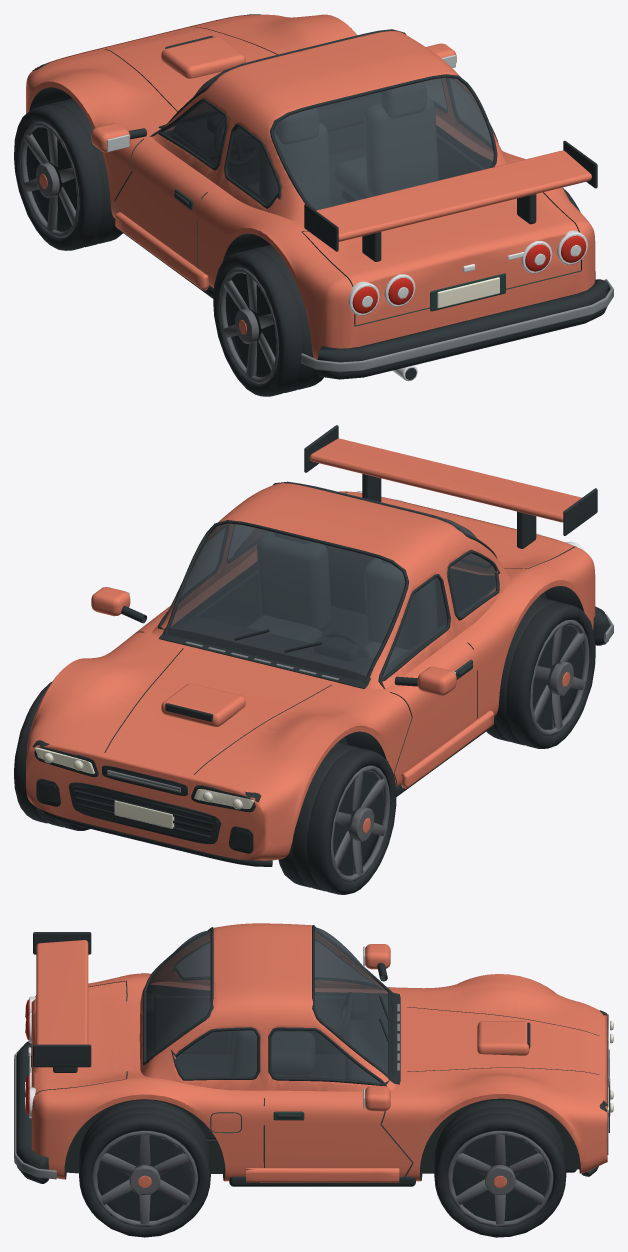
Rendered from hayate_lod1.fbx.
3 views of the same model, one above another, from view 1: azimuth 30°, elevation 25°; view 2: azimuth 150°, elevation 25°; view 3: azimuth 270°, elevation 25° (orthographic). The views are drawn at different scales.
Parts seen in each view (by area): view 1: Body, Wheel_RL_Mesh, Wheel_FL_Mesh; view 2: Body, Wheel_FL_Mesh, Wheel_RL_Mesh, Wheel_FR_Mesh; view 3: Body, Wheel_FR_Mesh, Wheel_RR_Mesh, Wheel_RL_Mesh.
Boxes of the visible parts, x1,y1,x2,y2 form: Body: (26, 14, 613, 381); Wheel_RL_Mesh: (213, 244, 323, 396); Wheel_FL_Mesh: (14, 98, 122, 250); Body: (26, 425, 613, 866); Wheel_FL_Mesh: (278, 742, 396, 894); Wheel_RL_Mesh: (486, 597, 595, 748); Wheel_FR_Mesh: (14, 682, 89, 830); Body: (14, 923, 613, 1186); Wheel_FR_Mesh: (434, 1099, 566, 1237); Wheel_RR_Mesh: (79, 1100, 210, 1237); Wheel_RL_Mesh: (146, 993, 164, 1051).
Size of the model in its own units: 239 by 154 by 392.
